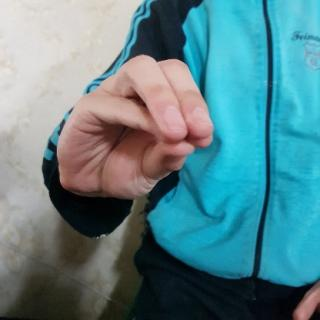HA: (51, 52, 222, 197)
